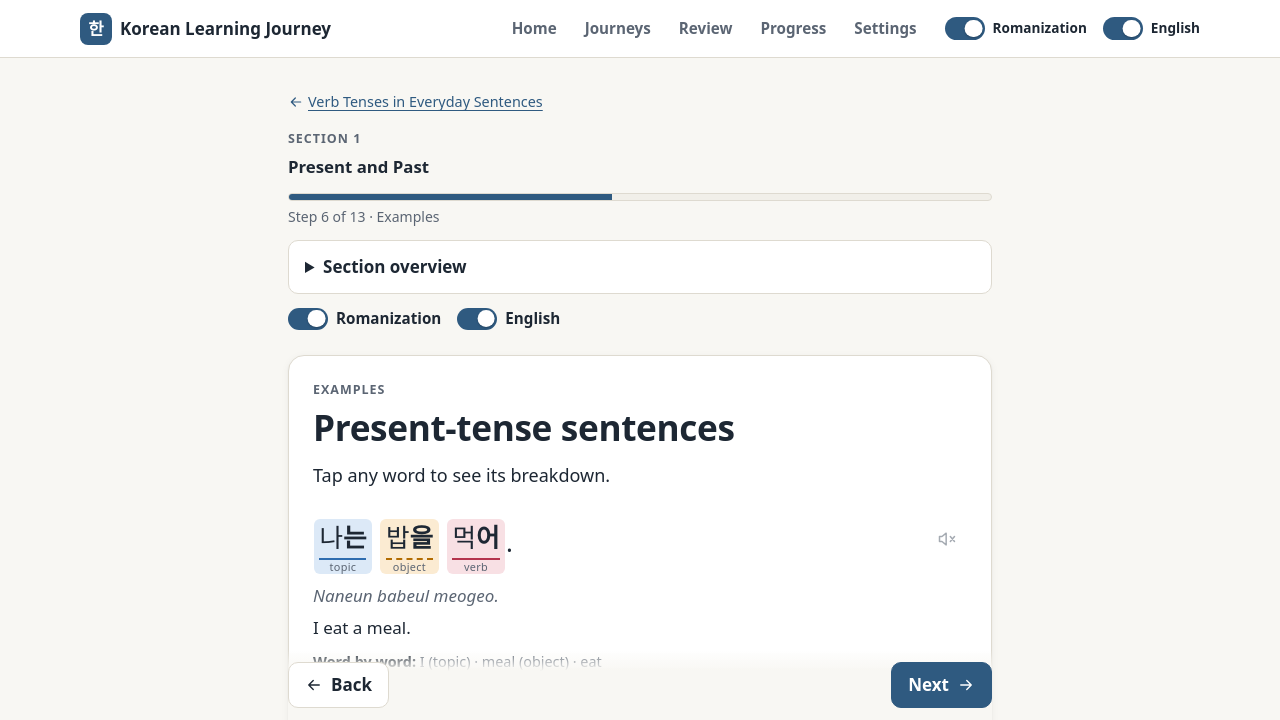
Test: lesson reader › hides romanization and translation independently, and the choice persists
Click the switch labelled "Romanization" next to "Settings": (1016, 28) left=945, top=17, right=1087, bottom=40
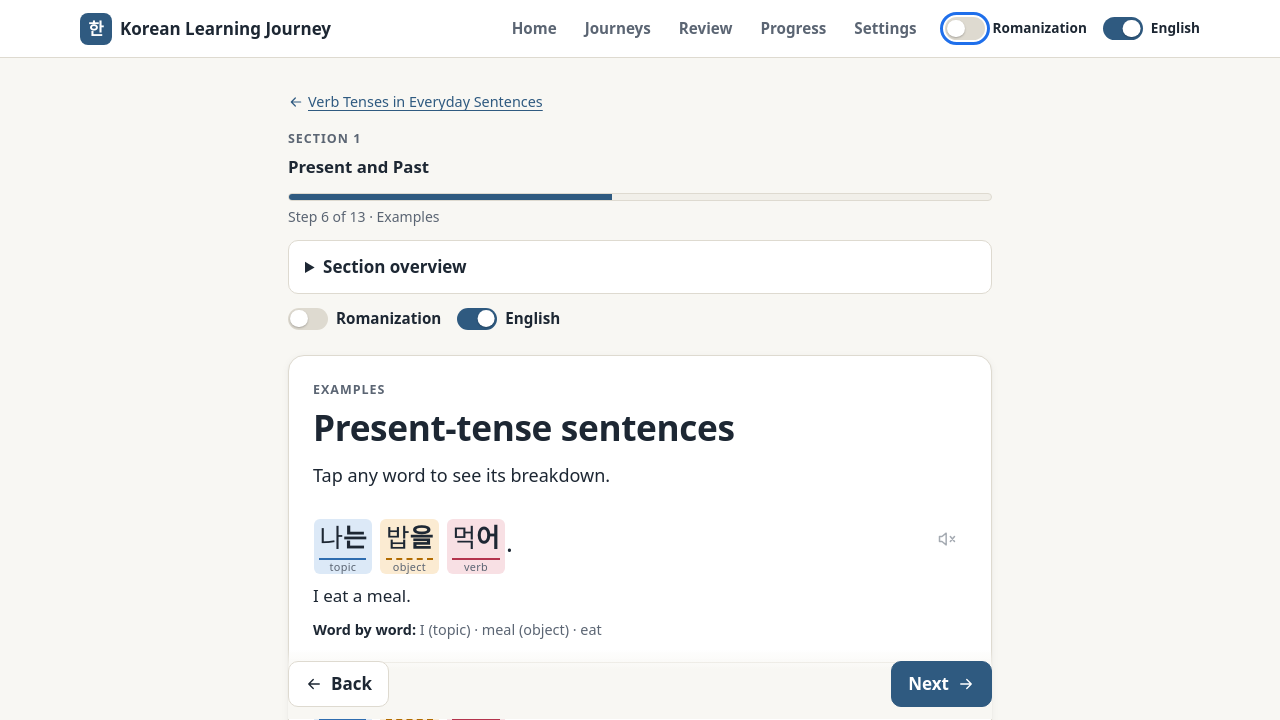
Expected: the text "I eat a meal." is shown, left=313, top=584, right=411, bottom=607
Expected: the text "Naneun babeul meogeo." is gone
Click the switch labelled "English" in the row of "Settings": (1151, 28) left=1103, top=17, right=1200, bottom=40
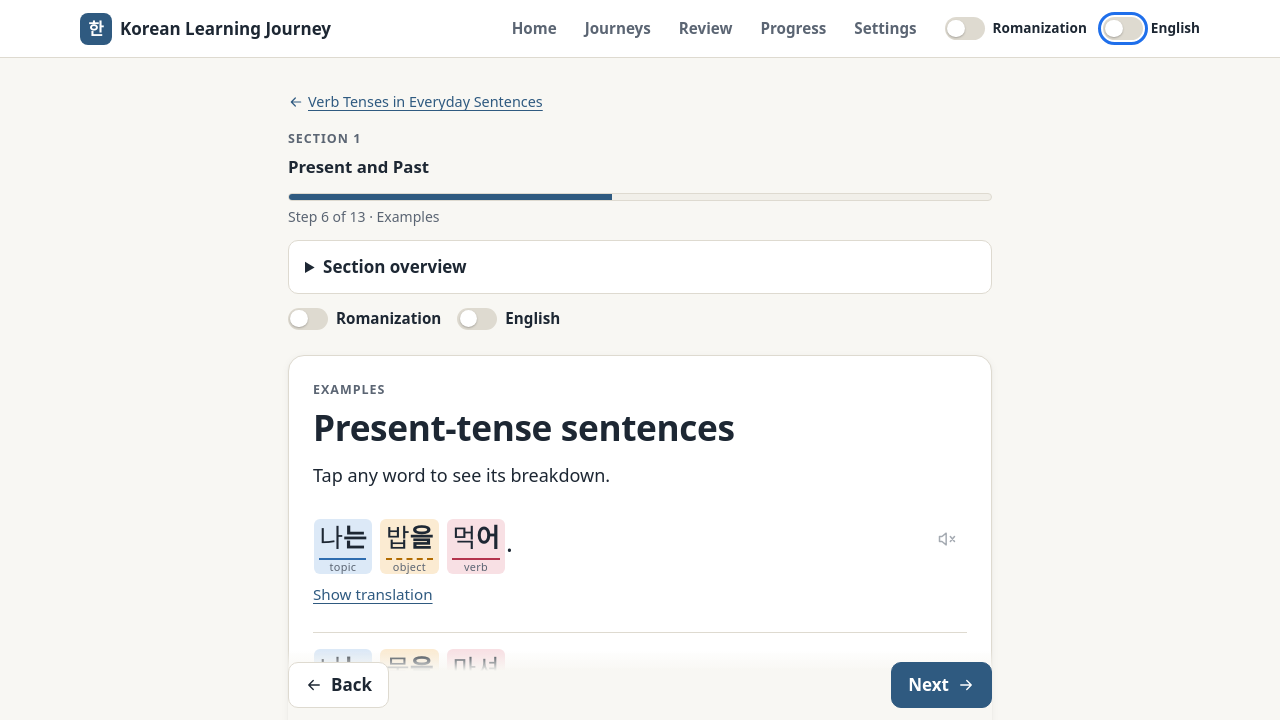
Expected: the text "I eat a meal." is gone
Click the button "Show translation": (373, 595) left=313, top=582, right=432, bottom=607
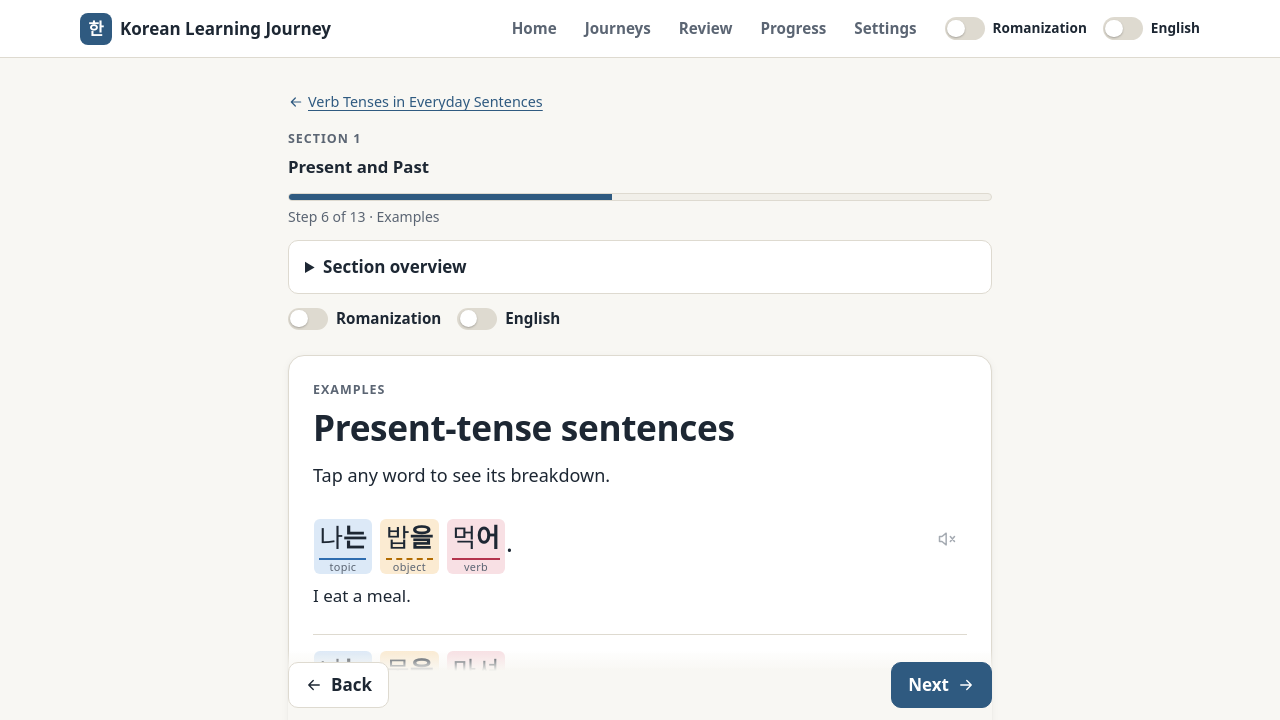
Expected: the text "I eat a meal." is shown, left=313, top=584, right=411, bottom=607
